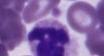N: (27, 19, 78, 56)
